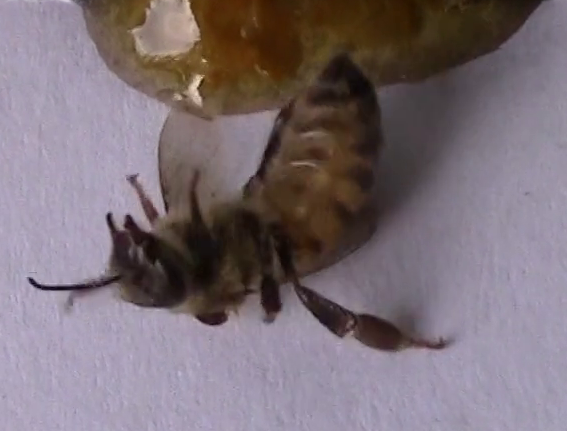Varroa destructor: (189, 304, 233, 329)
